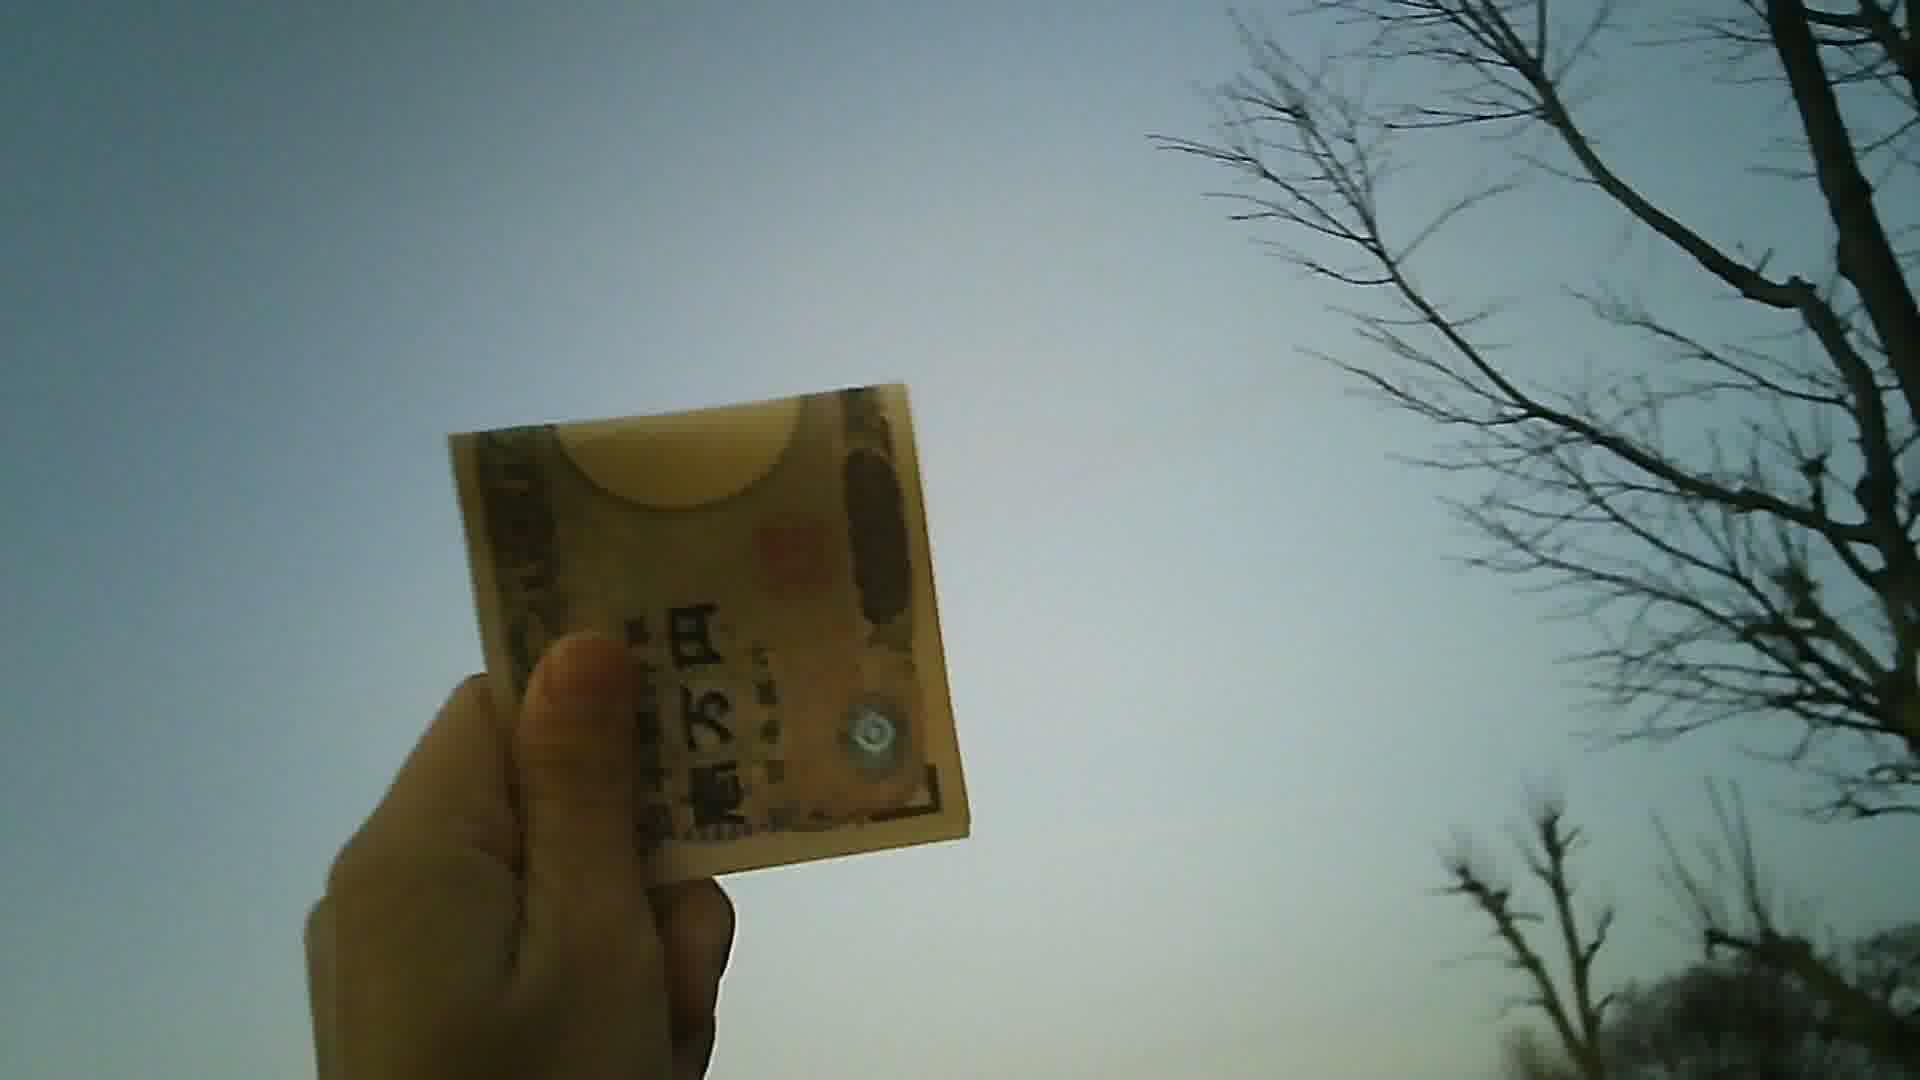10,000 Yen: (429, 365, 1013, 898)
